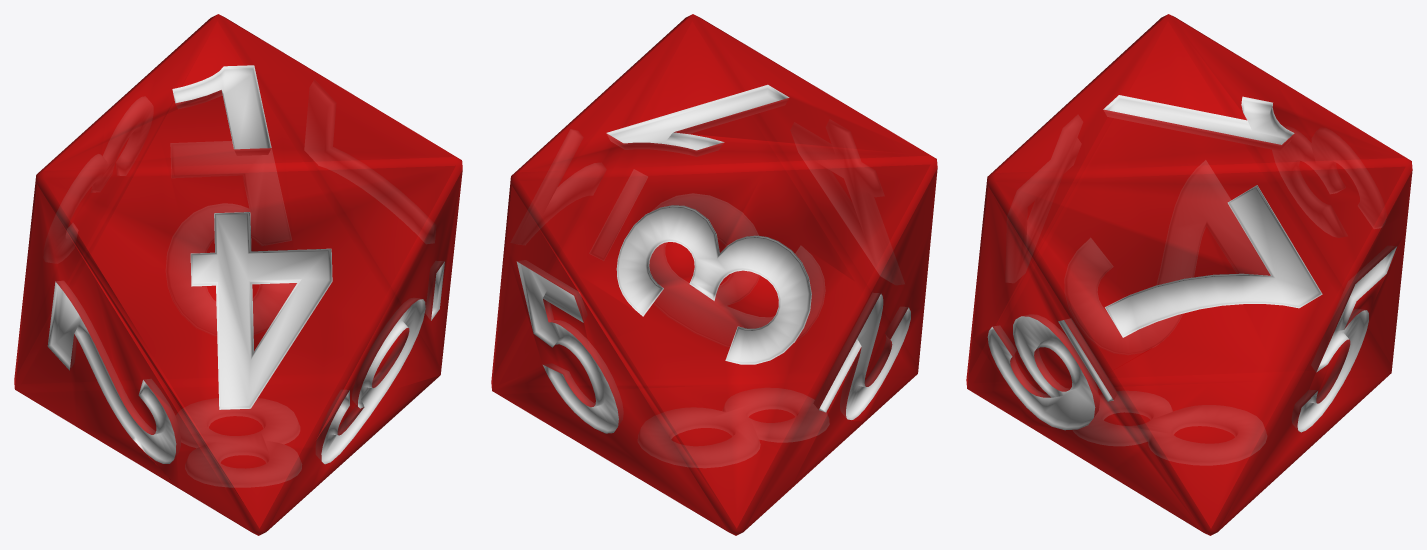
The picture shows the model from 3 angles, left to right: view 1: azimuth 30°, elevation 25°; view 2: azimuth 150°, elevation 25°; view 3: azimuth 270°, elevation 25°; orthographic projection.
Parts seen in each view (by area): view 1: 8_Sided; view 2: 8_Sided; view 3: 8_Sided.
Boxes of the visible parts, x1,y1,x2,y2 form: 8_Sided: [14, 14, 462, 535]; 8_Sided: [491, 14, 937, 535]; 8_Sided: [966, 14, 1412, 535].
Size of the model in its own units: 9.79 by 7.12 by 8.94.
